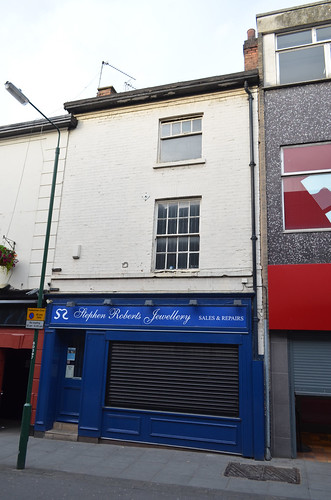building: (1, 71, 272, 467), (251, 12, 331, 467)
sign: (47, 300, 257, 338)
sky: (1, 1, 260, 101)
window: (264, 25, 331, 96), (148, 198, 203, 274), (153, 107, 199, 170)
